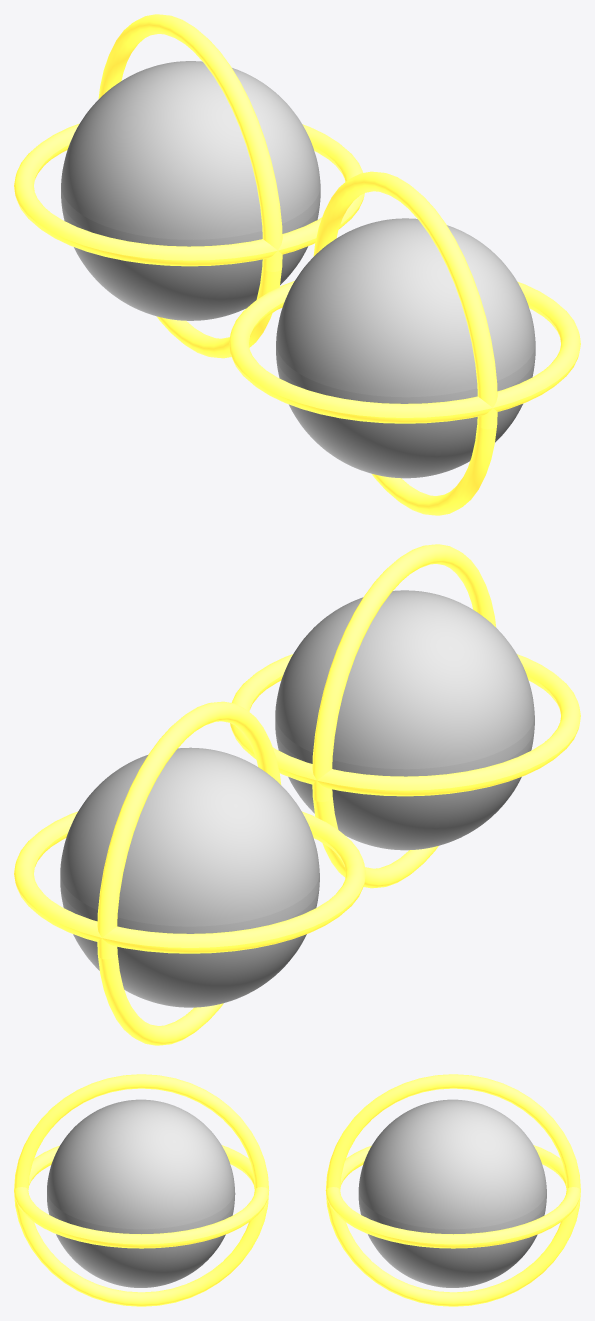
The model's file is blackhole.fbx.
3 views of the same model, one above another, from view 1: azimuth 30°, elevation 25°; view 2: azimuth 150°, elevation 25°; view 3: azimuth 270°, elevation 25° (orthographic). The views are drawn at different scales.
Parts seen in each view (by area): view 1: Sphere.007, Sphere, BézierCircle, Sphere.002, BézierCircle.001, BézierCircle.003; view 2: Sphere.007, Sphere, BézierCircle, Sphere.002, BézierCircle.001, BézierCircle.003; view 3: Sphere.007, Sphere, BézierCircle.001, BézierCircle, Sphere.002, BézierCircle.003.
Boxes of the visible parts, x1,y1,x2,y2 form: Sphere.007: (14,14,364,358); Sphere: (276,218,535,403); BézierCircle: (229,281,580,423); Sphere.002: (276,358,535,478); BézierCircle.001: (313,171,497,429); BézierCircle.003: (372,424,496,515); Sphere.007: (14,701,365,1045); Sphere: (275,590,534,776); BézierCircle: (230,654,580,796); Sphere.002: (275,729,534,850); BézierCircle.001: (312,544,496,801); BézierCircle.003: (313,797,438,888); Sphere.007: (325,1074,580,1306); Sphere: (47,1099,235,1234); BézierCircle.001: (14,1074,269,1208); BézierCircle: (14,1145,268,1248); Sphere.002: (47,1200,234,1287); BézierCircle.003: (15,1206,267,1306).
Size of the model in its own units: 271 by 271 by 602.
